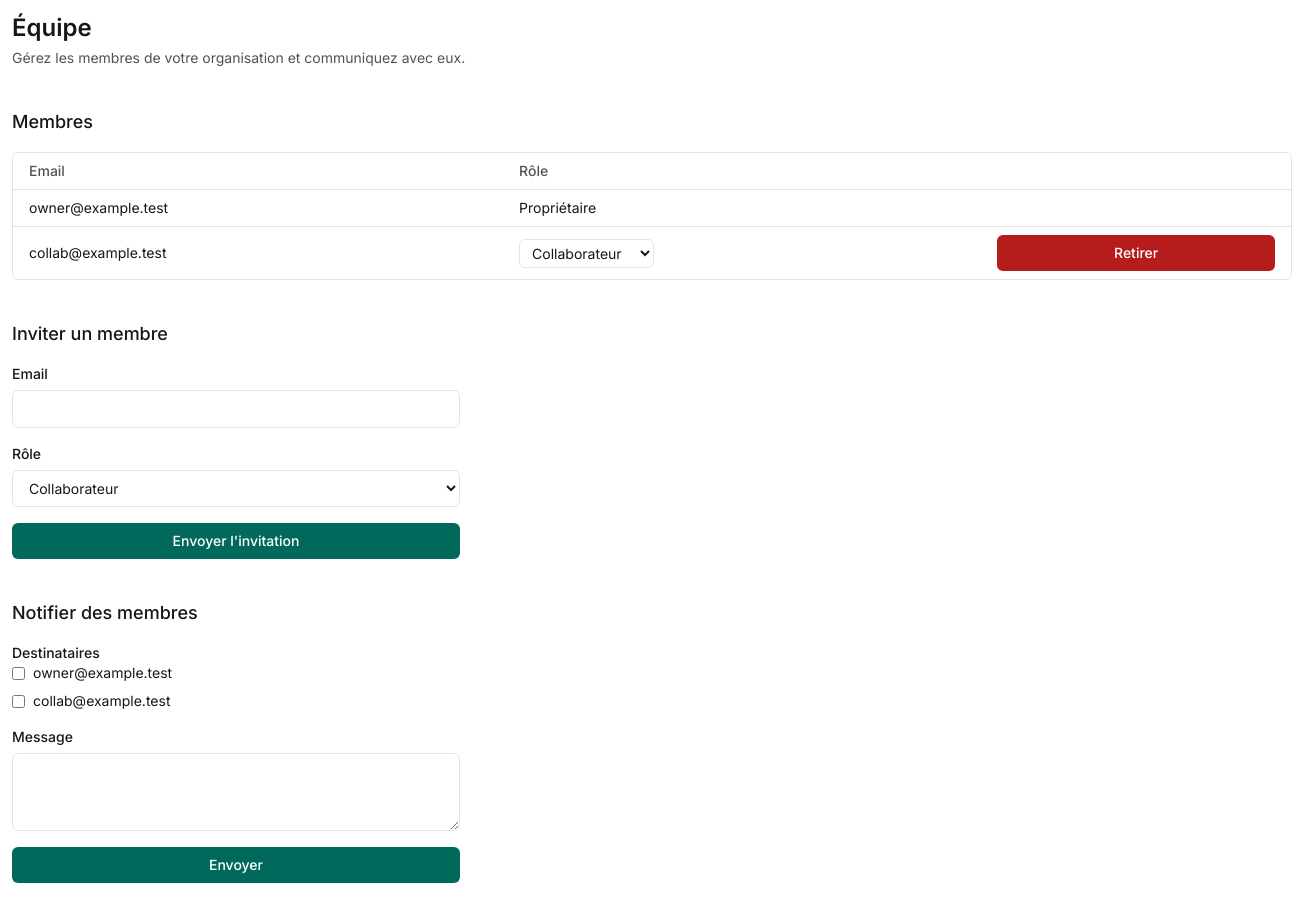
Test: TeamManagement › lets an OWNER invite a member and shows the new pending invitation
Check: the text "owner@example.test" is shown, box [13,190,503,226]
Check: the text "collab@example.test" is shown, box [13,226,503,279]
Type "new-member@example.test" into the field labelled "Email" at (236,409), box [12,390,460,428]
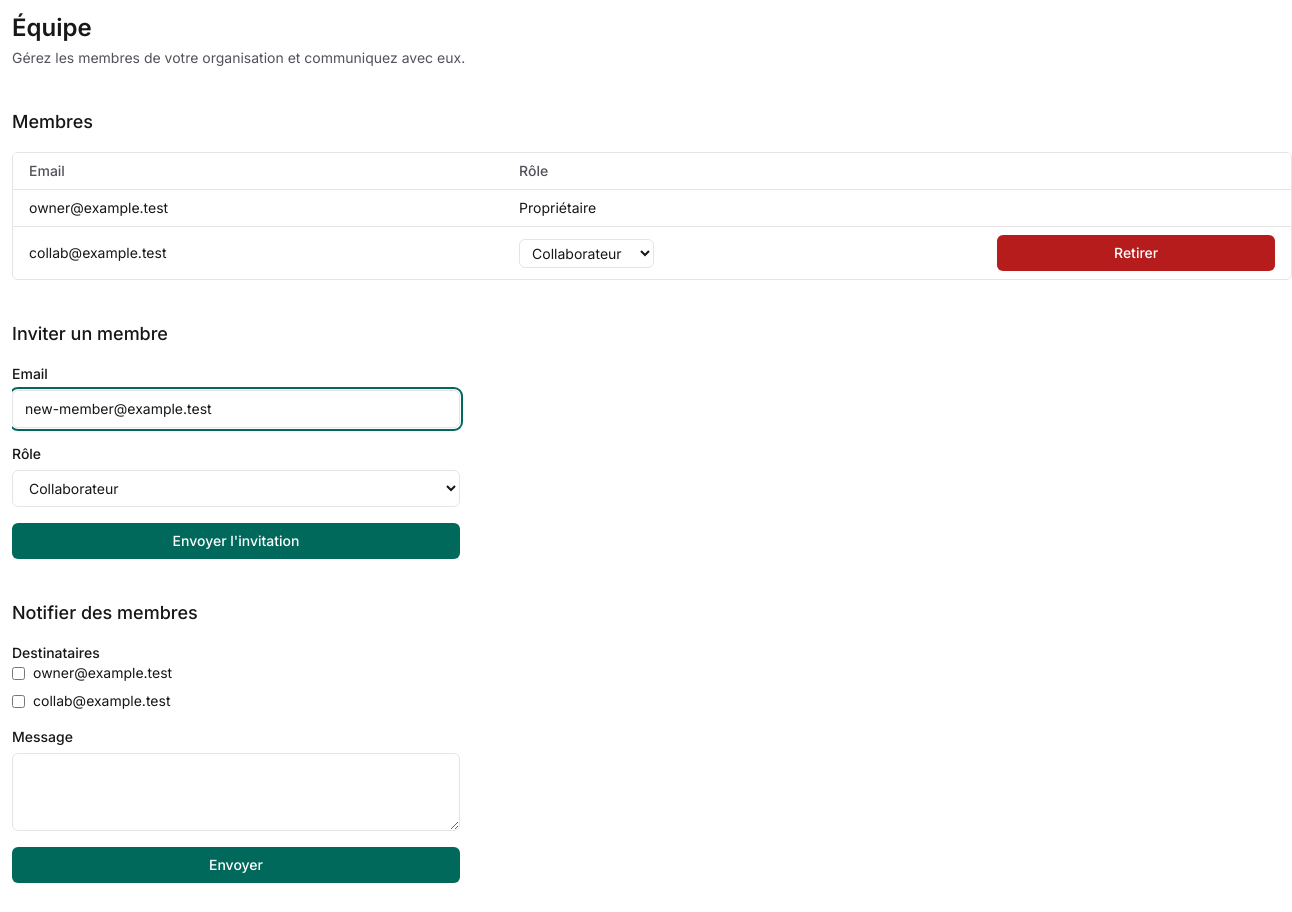
Click the button "Envoyer l'invitation" at (236,541), box [12,523,460,559]
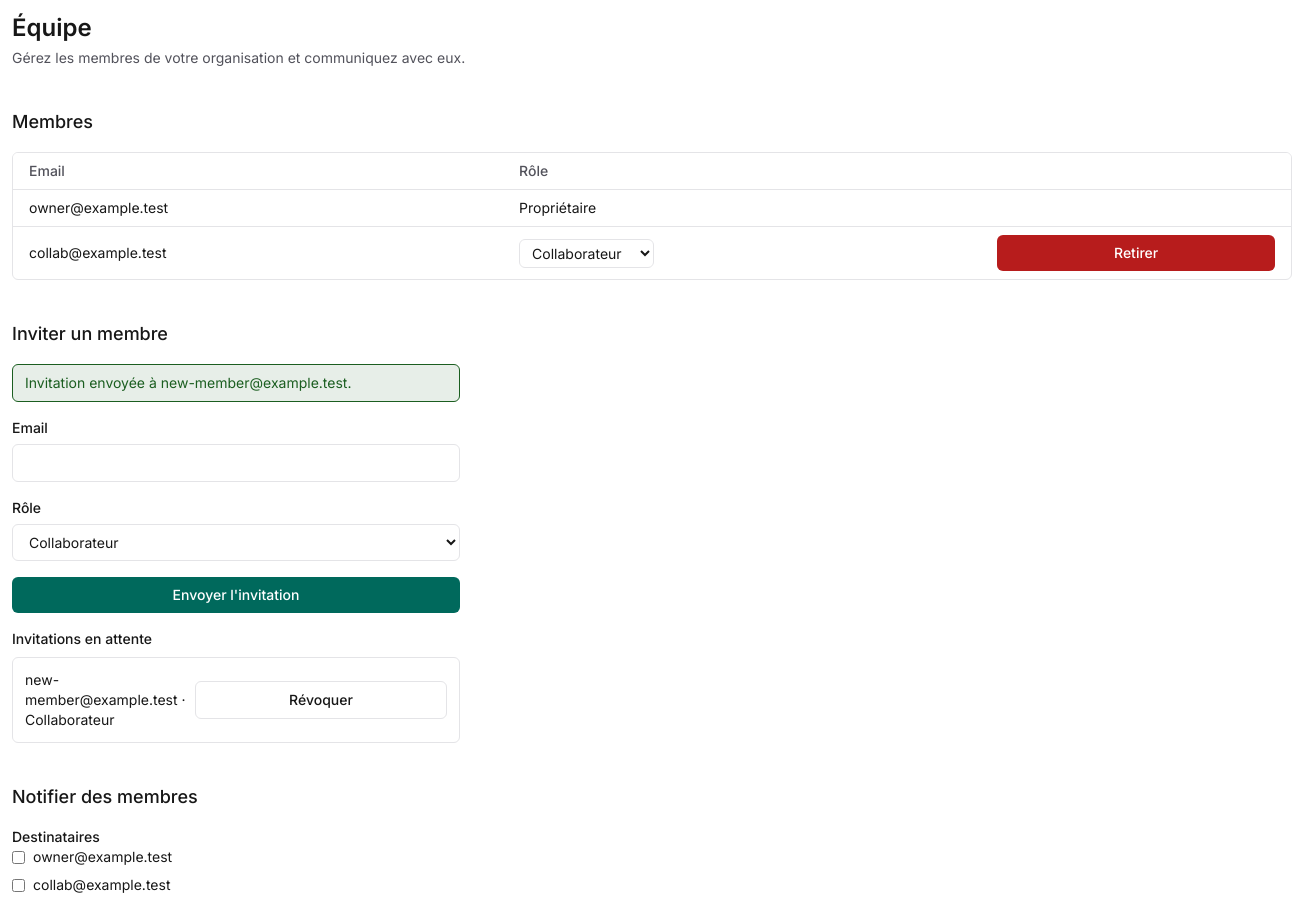
Check: the text "Invitation envoyée à new-member@example.test." is shown, box [12,364,460,402]
